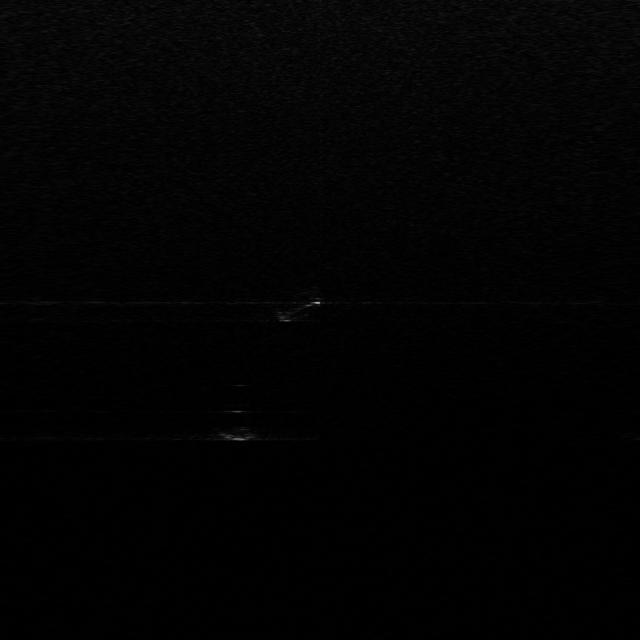ball: (218, 404, 267, 440)
tyre: (274, 286, 326, 321)
